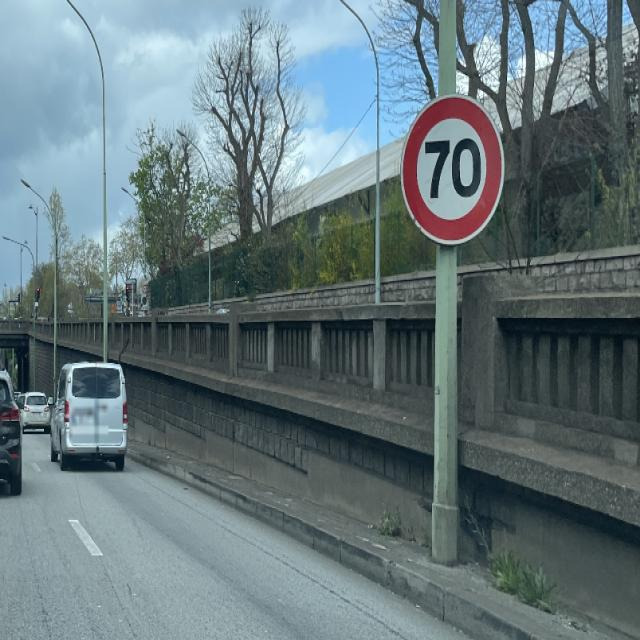speed_70: (401, 96, 503, 247)
